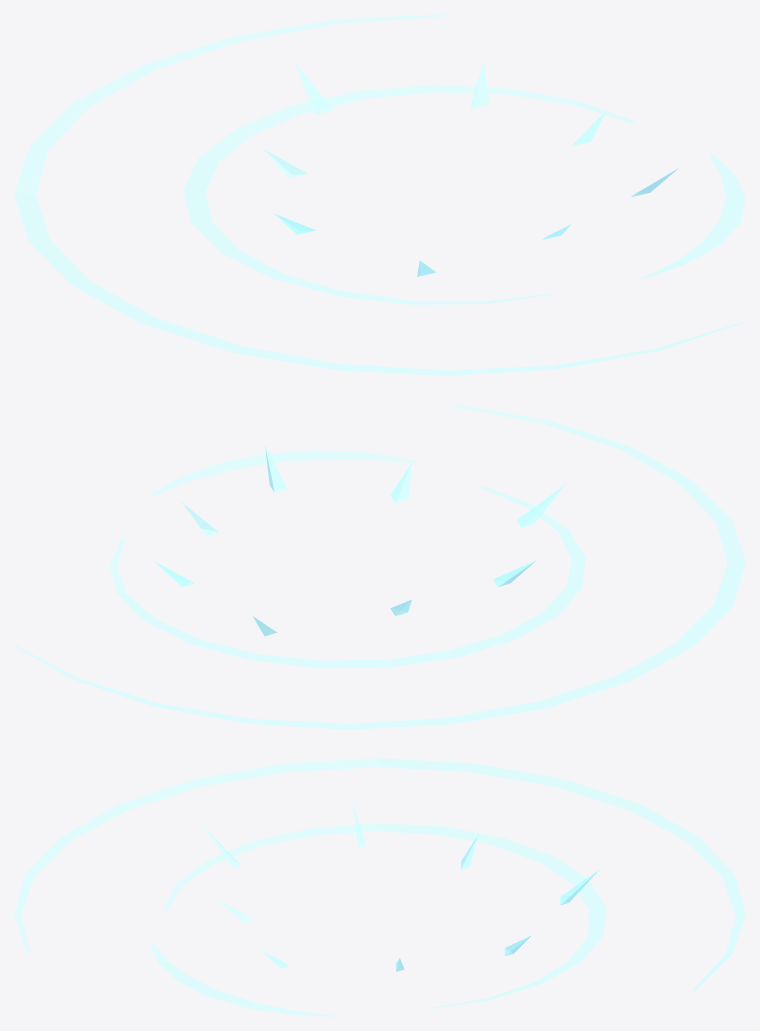
File: wsc-kit-007-storm-splash.glb
3 renders of one model, top to bottom at view 1: azimuth 30°, elevation 25°; view 2: azimuth 150°, elevation 25°; view 3: azimuth 270°, elevation 25°, orthographic. The views are drawn at different scales.
Parts seen in each view (by area): view 1: Rain_impact; view 2: Rain_impact; view 3: Rain_impact.
Boxes of the visible parts, box(x1,y1,x2,y2) form: Rain_impact: box(14, 14, 745, 375); Rain_impact: box(14, 404, 745, 729); Rain_impact: box(14, 758, 745, 1016).
Size of the model in its own units: 0.0284 by 0.00205 by 0.0341.
